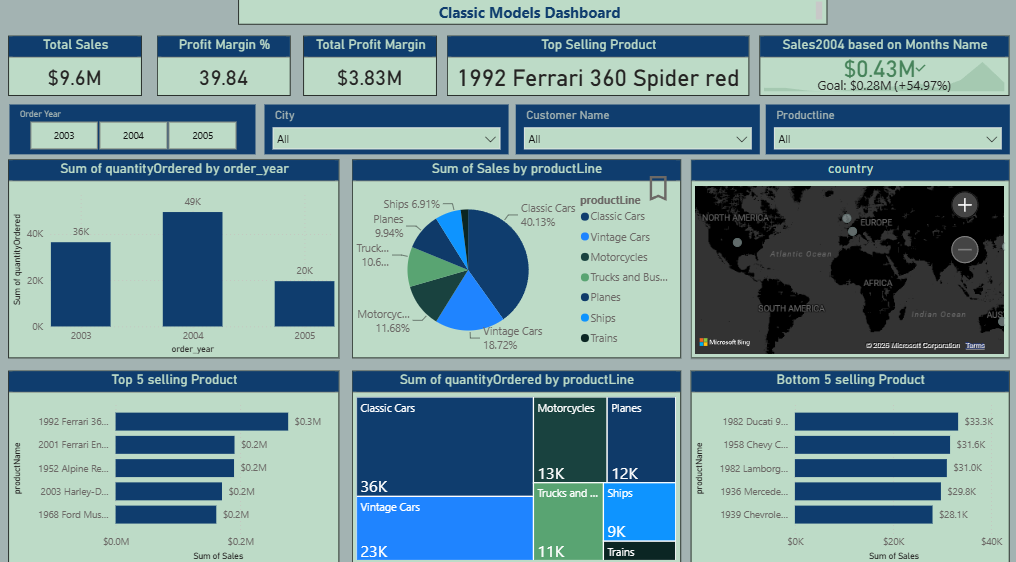

Layout of this report page (visuals, bound fields, positions):
{"tool":"powerbi","page":{"name":"Sales","canvas":[1280,720],"ordinal":0},"visuals":[{"type":"card","title":"Total Profit Margin","fields":{"Values":["order_details.total_profit"]},"box":[383.5,55.1,167.5,75.1],"z":0},{"type":"card","title":"Top Selling Product","fields":{"Values":["Table1.Most_Ordered Product"]},"box":[563.5,55.1,378.8,75.1],"z":1000},{"type":"barChart","title":"Top 5 selling Product","fields":{"Category":["products.productName"],"Y":["Sum(order_details.Sales)"]},"box":[14.1,474.6,414.8,242.6],"z":2000},{"type":"pieChart","fields":{"Category":["products.productLine"],"Y":["Sum(order_details.Sales)"]},"box":[444.5,210,411.6,248.9],"z":3000},{"type":"columnChart","fields":{"Y":["Sum(order_details.quantityOrdered)"],"Category":["orders.order_year"]},"box":[14.1,210,414.8,248.9],"z":4000},{"type":"slicer","title":"Order Year","fields":{"Values":["orders.order_year"]},"box":[15.7,141.2,308.3,62.6],"z":5000},{"type":"kpi","title":"Sales2004 based on Months Name","fields":{"Indicator":["Table1.sales_2004"],"Goal":["Table1.sales_2003"],"TrendLine":["orders.Month Name"]},"box":[954.8,55.1,313,75.1],"z":6000},{"type":"map","fields":{"Category":["offices.country"]},"box":[868.7,210,399.1,248.9],"z":7000},{"type":"treemap","fields":{"Group":["products.productLine"],"Values":["Sum(order_details.quantityOrdered)"]},"box":[444.5,474.6,411.6,242.6],"z":8000},{"type":"card","title":"Profit Margin %","fields":{"Values":["Table1.Profit_margin_%"]},"box":[200.3,55.1,167.5,75.1],"z":9000},{"type":"card","title":"Total Sales","fields":{"Values":["Sum(order_details.Sales)"]},"box":[14.1,55.1,167.5,75.1],"z":10000},{"type":"slicer","fields":{"Values":["offices.city"]},"box":[334.9,140.6,305.2,62.6],"z":11000},{"type":"slicer","fields":{"Values":["employees.fullname"]},"box":[649.6,140.6,305.2,62.6],"z":12000},{"type":"slicer","fields":{"Values":["products.productLine"]},"box":[962.6,140.6,305.2,62.6],"z":13000},{"type":"barChart","title":"Bottom 5 selling Product","fields":{"Category":["products.productName"],"Y":["Sum(order_details.Sales)"]},"box":[868.7,474.6,399.1,242.6],"z":14000},{"type":"actionButton","box":[807.6,225.4,48.5,40.7],"z":15000},{"type":"textbox","box":[302.1,0,737.2,40.7],"z":15001}]}

Visuals, with their boxes in screenshot pixels (x1, y1, x2, y2), scaled from the page's 1280x720 canvas onto the 1016x562 screenshot:
"Total Profit Margin" card: x1=304 y1=43 x2=437 y2=102
"Top Selling Product" card: x1=447 y1=43 x2=748 y2=102
"Top 5 selling Product" barChart: x1=11 y1=370 x2=340 y2=560
pieChart - products.productLine x Sum(order_details.Sales): x1=353 y1=164 x2=680 y2=358
columnChart - Sum(order_details.quantityOrdered) x orders.order_year: x1=11 y1=164 x2=340 y2=358
"Order Year" slicer: x1=12 y1=110 x2=257 y2=159
"Sales2004 based on Months Name" kpi: x1=758 y1=43 x2=1006 y2=102
map - offices.country: x1=690 y1=164 x2=1006 y2=358
treemap - products.productLine x Sum(order_details.quantityOrdered): x1=353 y1=370 x2=680 y2=560
"Profit Margin %" card: x1=159 y1=43 x2=292 y2=102
"Total Sales" card: x1=11 y1=43 x2=144 y2=102
slicer - offices.city: x1=266 y1=110 x2=508 y2=159
slicer - employees.fullname: x1=516 y1=110 x2=758 y2=159
slicer - products.productLine: x1=764 y1=110 x2=1006 y2=159
"Bottom 5 selling Product" barChart: x1=690 y1=370 x2=1006 y2=560
actionButton: x1=641 y1=176 x2=680 y2=208
textbox: x1=240 y1=0 x2=825 y2=32
